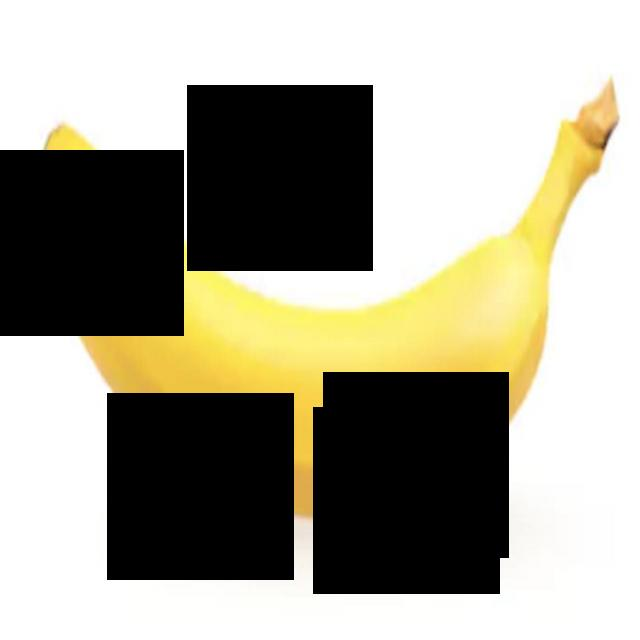banana: (25, 45, 638, 527)
